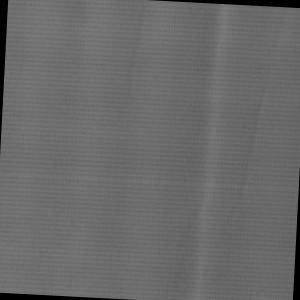Wrinkle: (172, 2, 234, 300), (236, 6, 298, 201)
